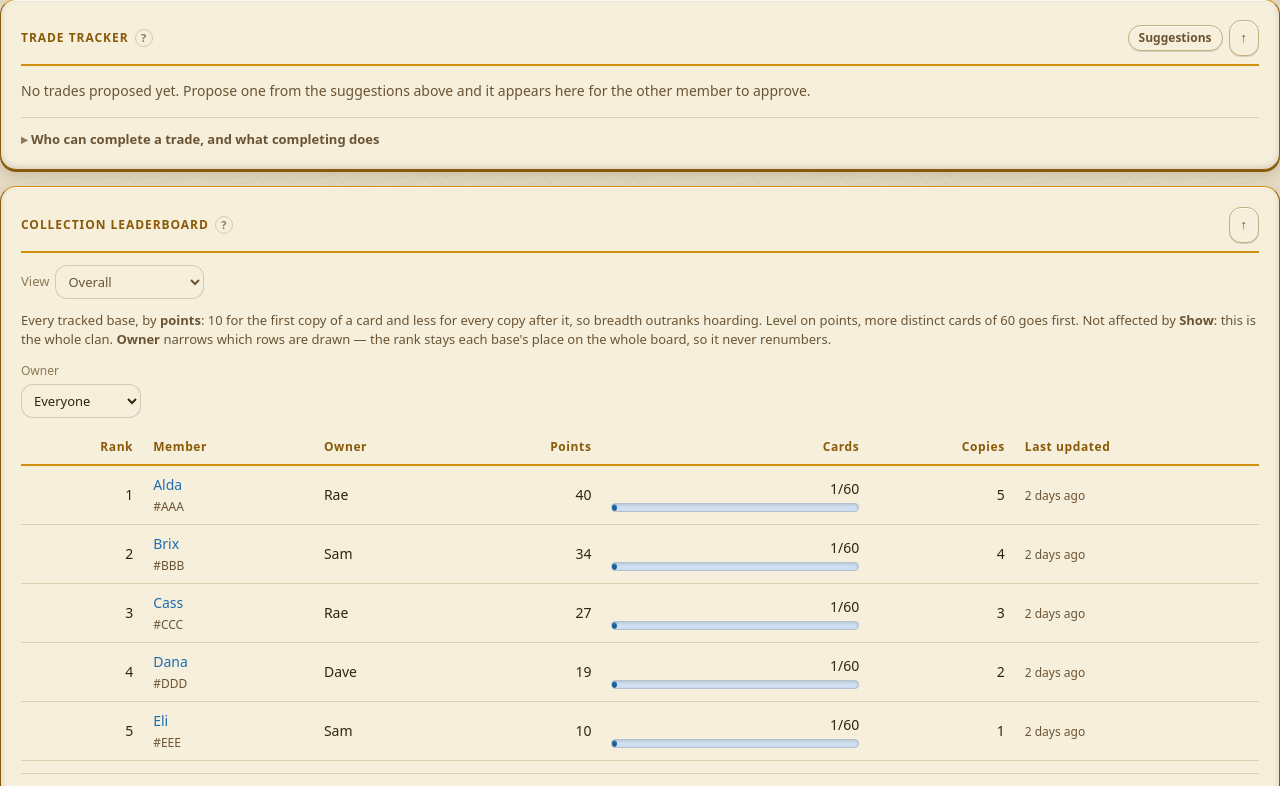
Test: the leaderboard’s owner filter and staleness column › keeps a base’s rank on the whole board when the filter narrows it to one owner
(page scrolled)
Expected: the link "Cass" is shown, [153,593,183,612]
Select "Rae" in the dropdown labelled "Owner" at (81, 401), box [21,384,141,418]
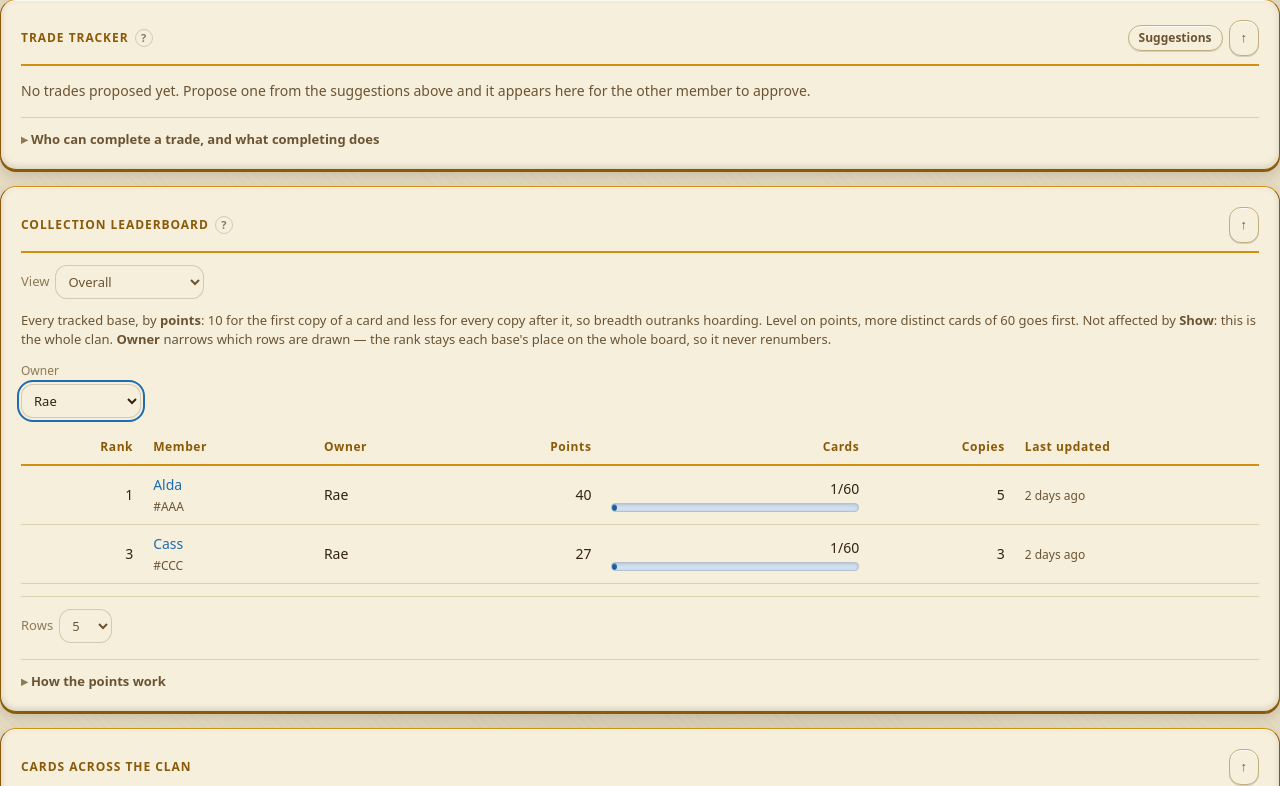
Expected: the text "Alda" is shown, [153,475,182,494]
Expected: the link "Brix" is gone
